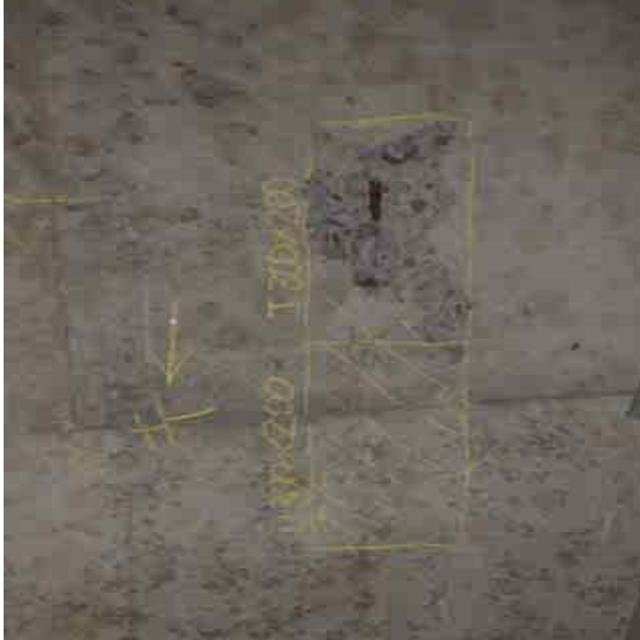spalling: (274, 97, 487, 350)
